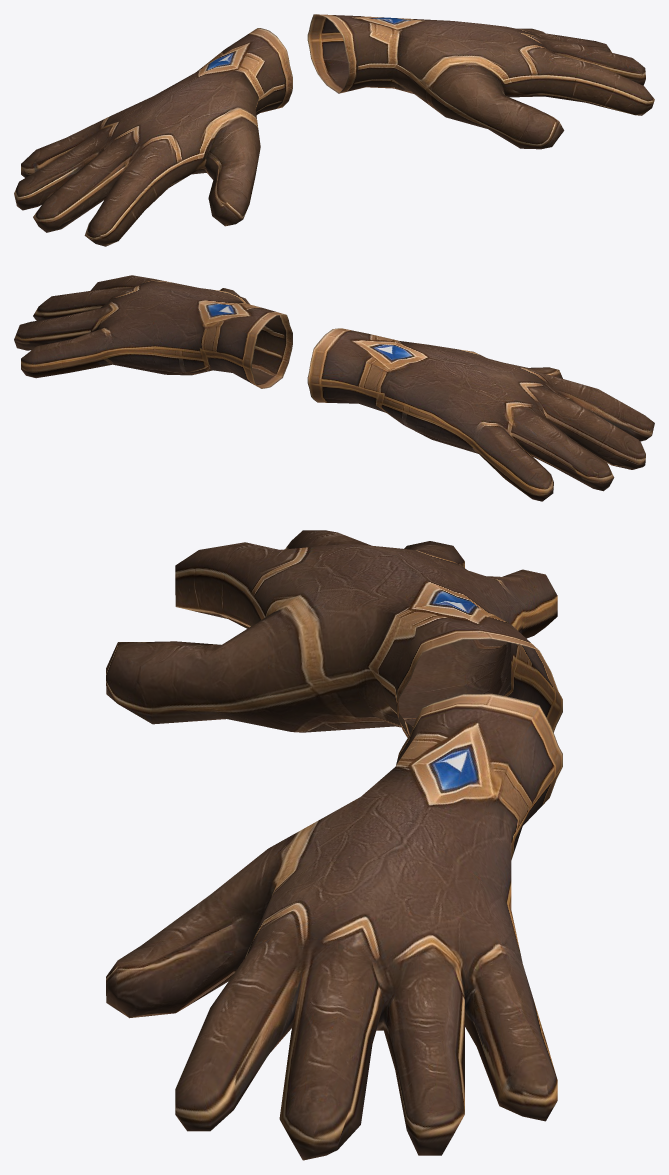
The model's file is LeatherMageGloves.glb.
3 views of the same model, one above another, from view 1: azimuth 30°, elevation 25°; view 2: azimuth 150°, elevation 25°; view 3: azimuth 270°, elevation 25° (orthographic). The views are drawn at different scales.
Bounding box in the file's own units: 2 × 0.3199 × 0.6521.
1 material, 1 textured.
